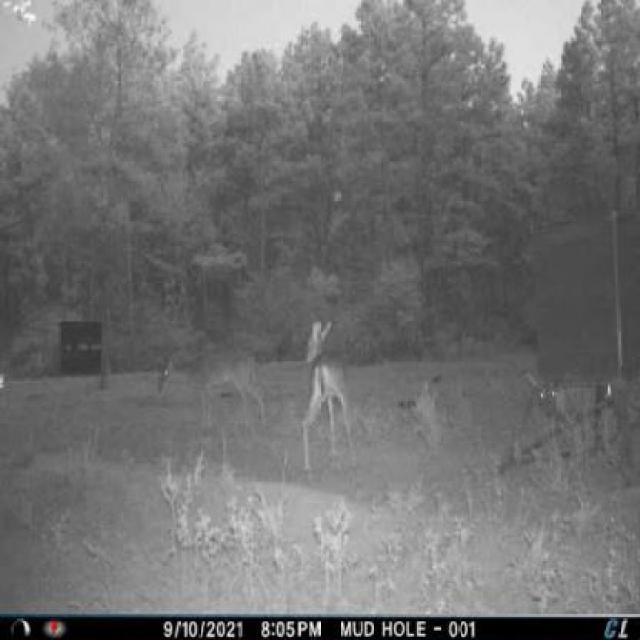Deer: (156, 344, 270, 439), (298, 310, 356, 478)
